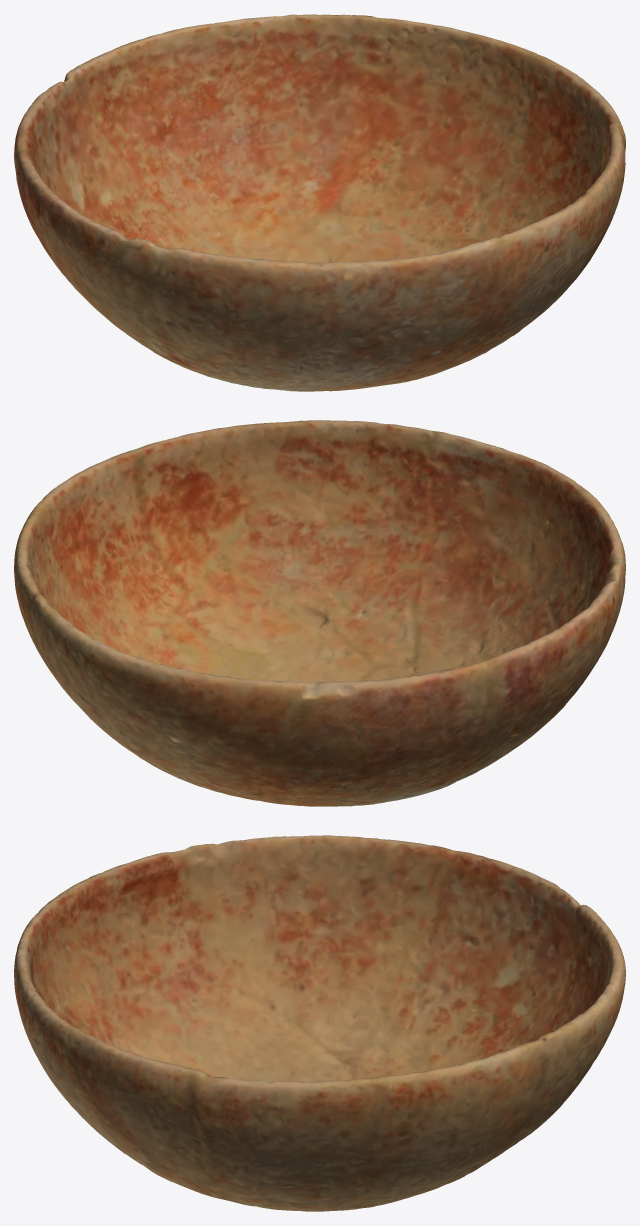
3 views of the same model, one above another, from view 1: azimuth 30°, elevation 25°; view 2: azimuth 150°, elevation 25°; view 3: azimuth 270°, elevation 25° (orthographic).
Parts seen in each view (by area): view 1: Mesh_0.004; view 2: Mesh_0.004; view 3: Mesh_0.004.
Part boxes in pixels (x1,y1,x2,y2): Mesh_0.004: (14,14,625,391); Mesh_0.004: (14,420,625,806); Mesh_0.004: (14,835,625,1211).
Bounding box in the file's own units: 0.2273 × 0.0892 × 0.2298.
Materials: 1 (1 with a texture image).
